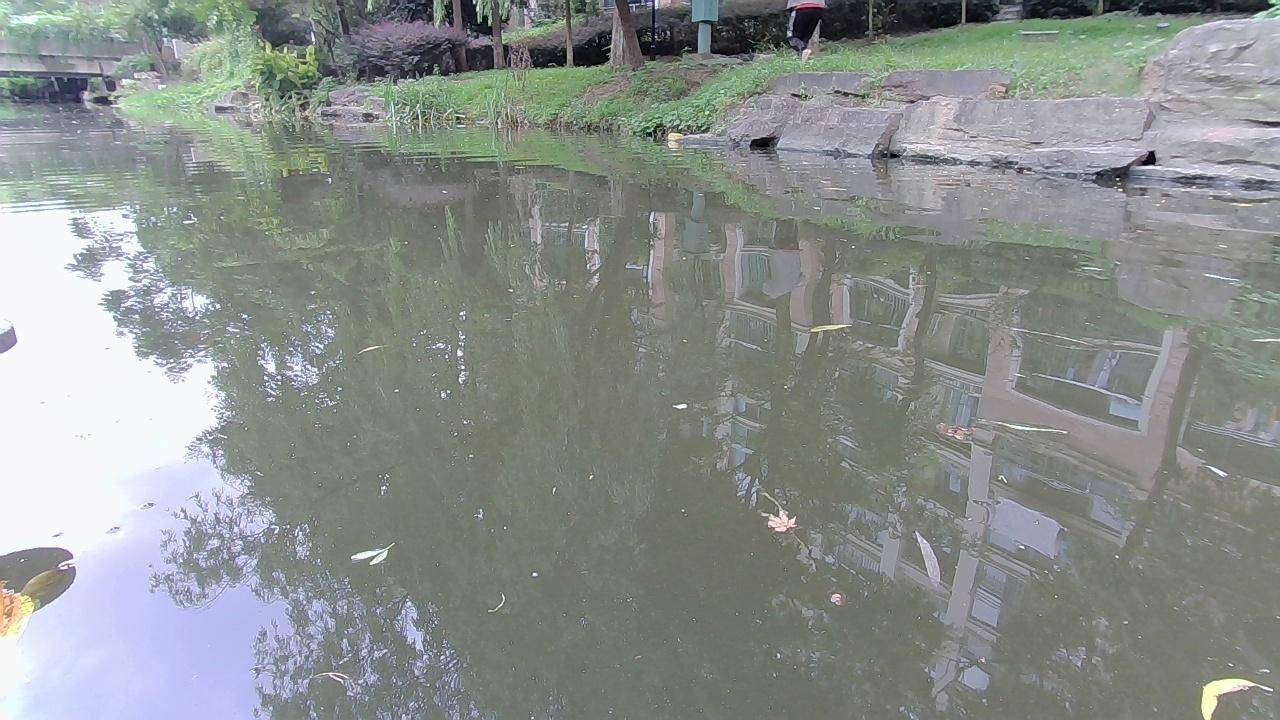bottle: (666, 131, 687, 142)
